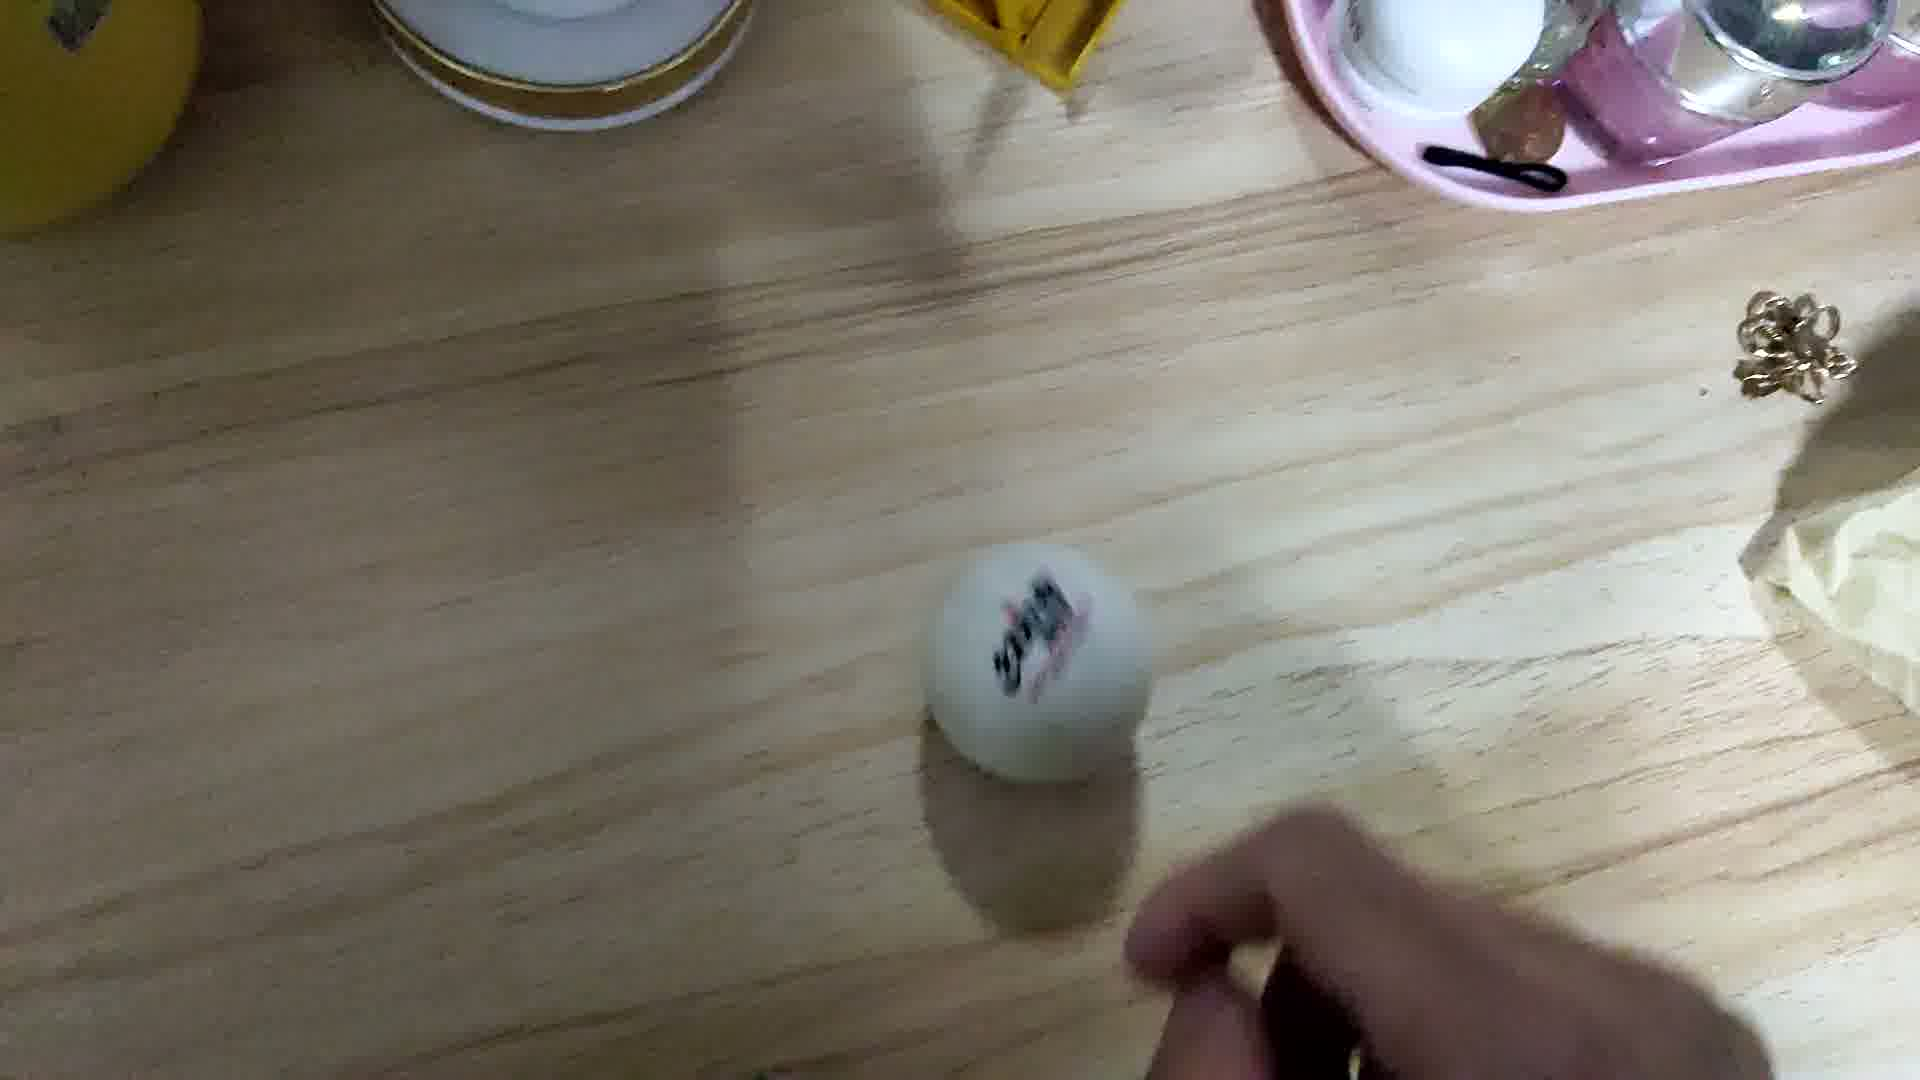Ball: (922, 535, 1164, 779)
